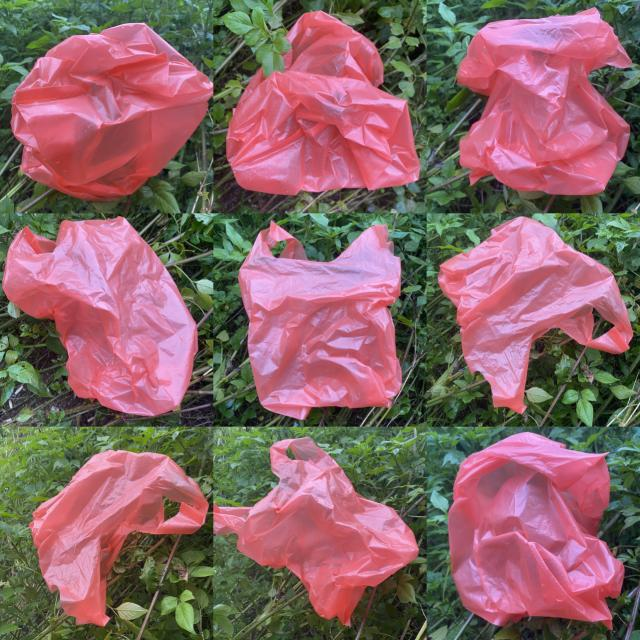Single-layer Plastic: (2, 218, 198, 416), (439, 216, 632, 414), (214, 438, 418, 625), (11, 24, 212, 201), (226, 11, 420, 194), (449, 432, 624, 626), (458, 8, 631, 195), (239, 221, 401, 419), (30, 450, 209, 626)
